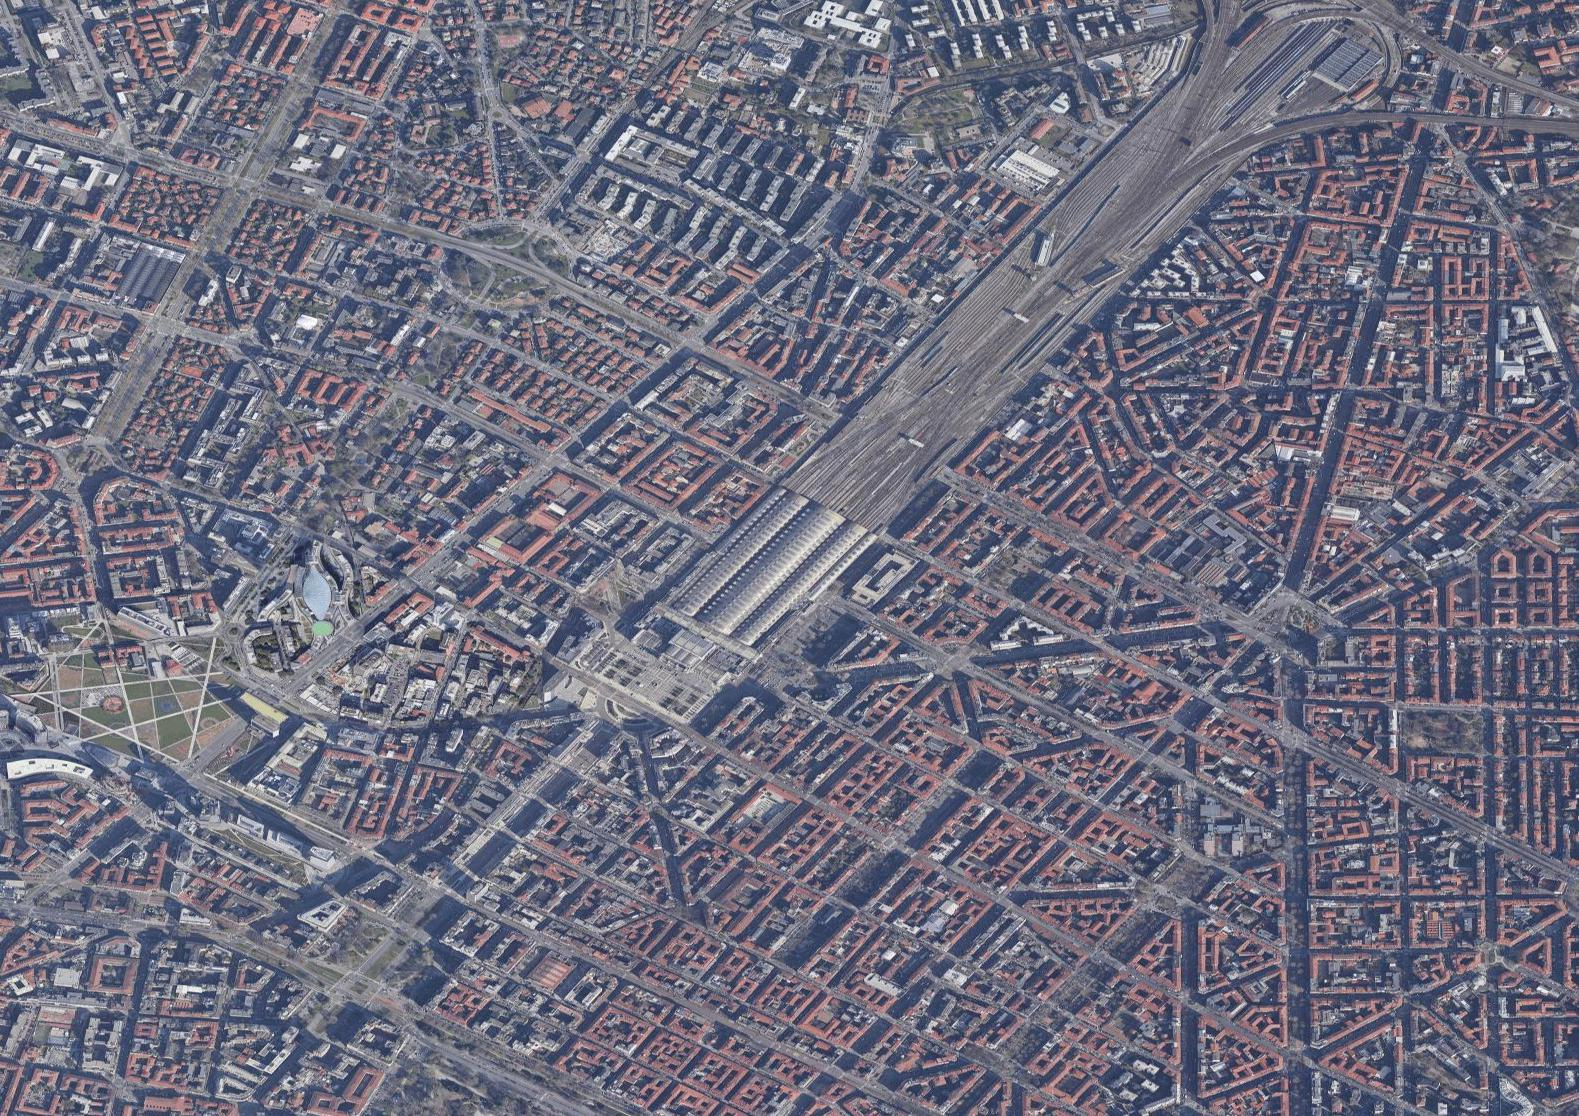train_station: (680, 469, 876, 657)
